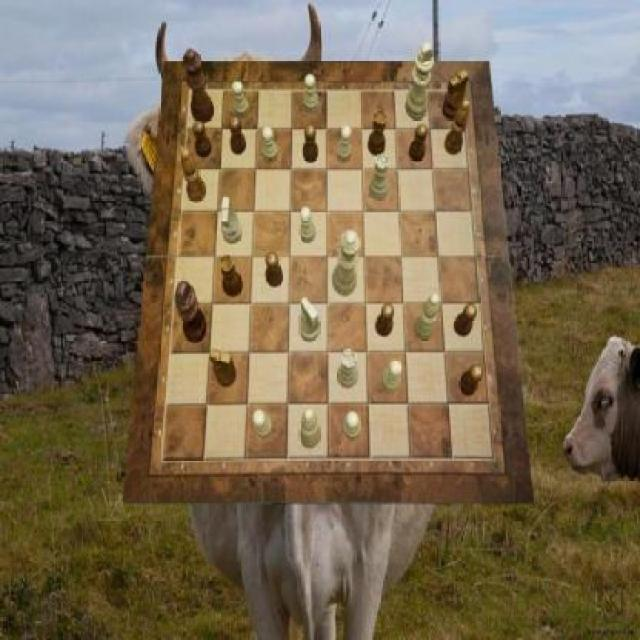bishop: (446, 99, 471, 154), (182, 149, 206, 203)
black-bishop: (174, 280, 207, 344)
black-king: (443, 69, 469, 120), (210, 349, 238, 388)
black-knight: (454, 303, 477, 337), (458, 365, 482, 397), (192, 122, 212, 159), (409, 125, 428, 162), (229, 117, 246, 155), (375, 303, 393, 337), (265, 252, 282, 288), (303, 125, 319, 163)
black-pawn: (183, 49, 214, 124)
black-queen: (218, 255, 242, 298), (368, 109, 387, 157)
black-rook: (414, 294, 440, 341), (300, 408, 321, 448)
white-bishop: (406, 42, 434, 120)
white-king: (298, 297, 320, 342), (223, 197, 243, 243)
white-knight: (383, 358, 403, 392), (232, 82, 250, 119), (304, 74, 320, 114), (300, 206, 317, 242), (263, 126, 280, 162), (336, 125, 352, 162), (254, 411, 274, 438), (343, 412, 361, 440)
white-pawn: (332, 231, 360, 297)
white-queen: (369, 154, 390, 200), (337, 349, 358, 389)
